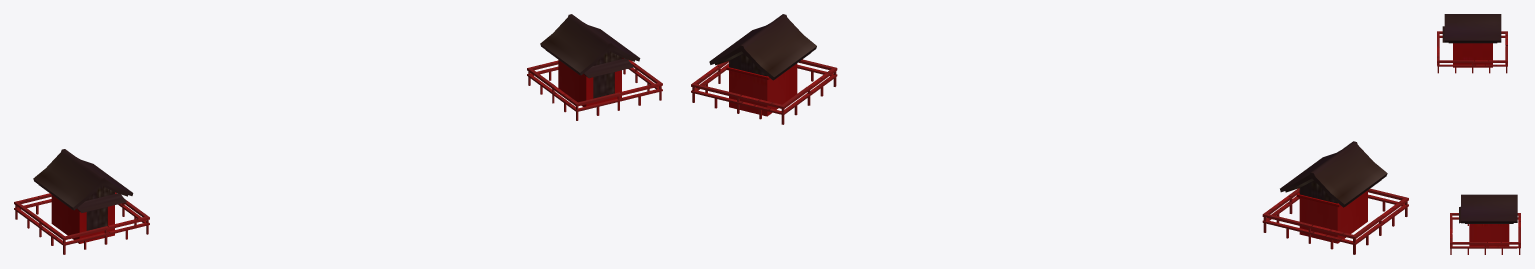
Rendered from CasasMenores.obj.
3 renders of one model, left to right at view 1: azimuth 30°, elevation 25°; view 2: azimuth 150°, elevation 25°; view 3: azimuth 270°, elevation 25°, orthographic. The views are drawn at different scales.
Visible parts, largest first — view 1: CasitasMenores, RegasMenores; view 2: CasitasMenores, RegasMenores; view 3: CasitasMenores, RegasMenores.
Part boxes in pixels (box(x1,y1,x2,y2)): CasitasMenores: box(33, 14, 640, 243); RegasMenores: box(14, 57, 662, 254); CasitasMenores: box(709, 14, 1387, 243); RegasMenores: box(691, 59, 1408, 254); CasitasMenores: box(1442, 14, 1517, 246); RegasMenores: box(1437, 31, 1520, 254).
Bounding box in the file's own units: 202 × 20.83 × 33.71.
Materials: 2 (2 with a texture image).
